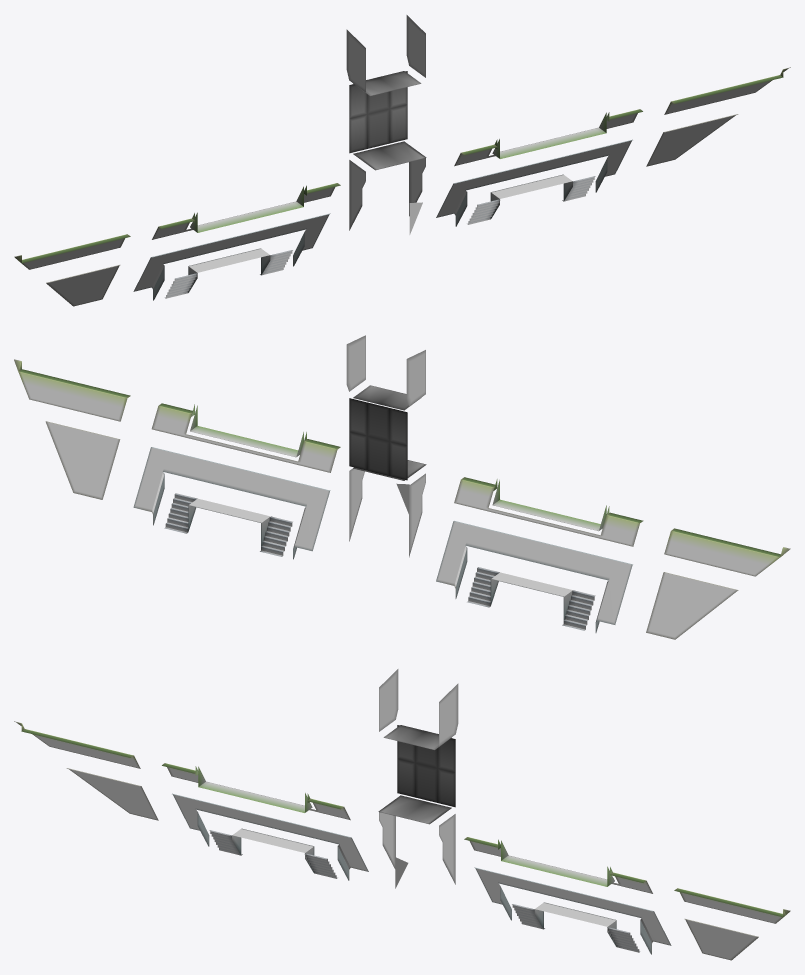
Rendered from SM_000410_merge_concrete03.fbx.
3 renders of one model, top to bottom at view 1: azimuth 30°, elevation 25°; view 2: azimuth 150°, elevation 25°; view 3: azimuth 330°, elevation 25°, orthographic.
Parts seen in each view (by area): view 1: SM_000410.001; view 2: SM_000410.001; view 3: SM_000410.001.
Part boxes in pixels (x1=…): SM_000410.001: x1=14, y1=15, x2=790, y2=306; SM_000410.001: x1=14, y1=335, x2=790, y2=639; SM_000410.001: x1=14, y1=669, x2=790, y2=960.
Size of the model in its own units: 139 by 38.59 by 10.98.
